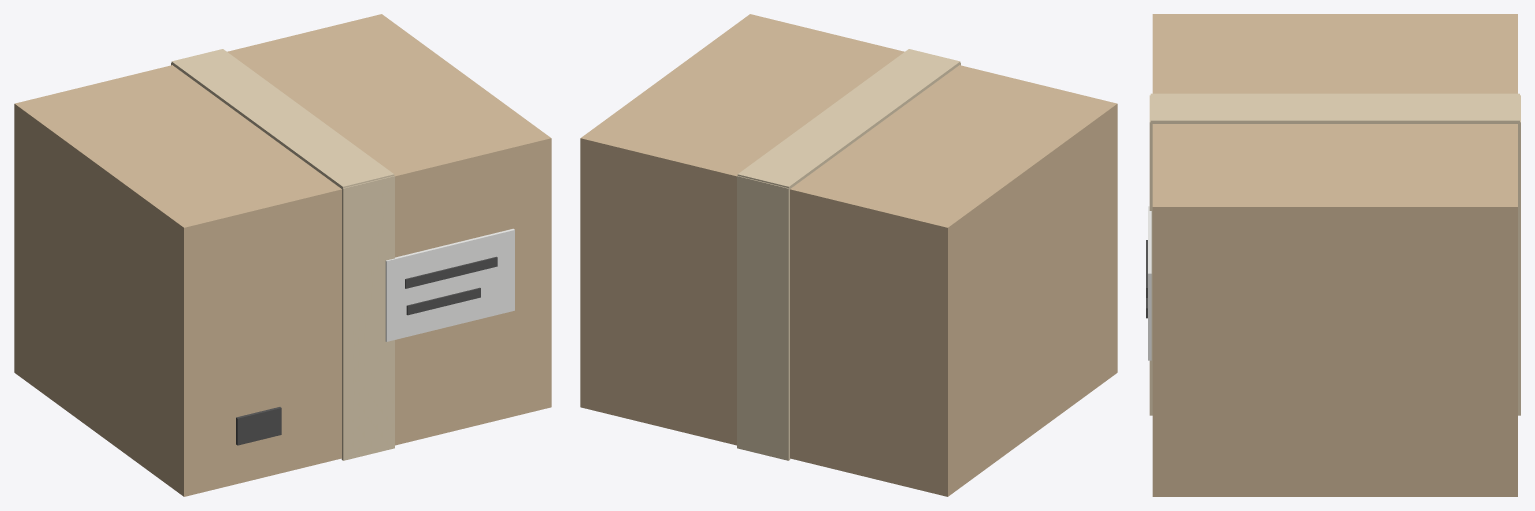
Rendered from box_medium.glb.
3 views of the same model, side by side, from view 1: azimuth 30°, elevation 25°; view 2: azimuth 150°, elevation 25°; view 3: azimuth 270°, elevation 25° (orthographic). The views are drawn at different scales.
Visible parts, largest first — view 1: box_medium; view 2: box_medium; view 3: box_medium.
Boxes of the visible parts, x1,y1,x2,y2 form: box_medium: [14, 14, 551, 496]; box_medium: [580, 14, 1117, 496]; box_medium: [1146, 14, 1520, 496].
Bounding box in the file's own units: 0.5 × 0.356 × 0.41.
